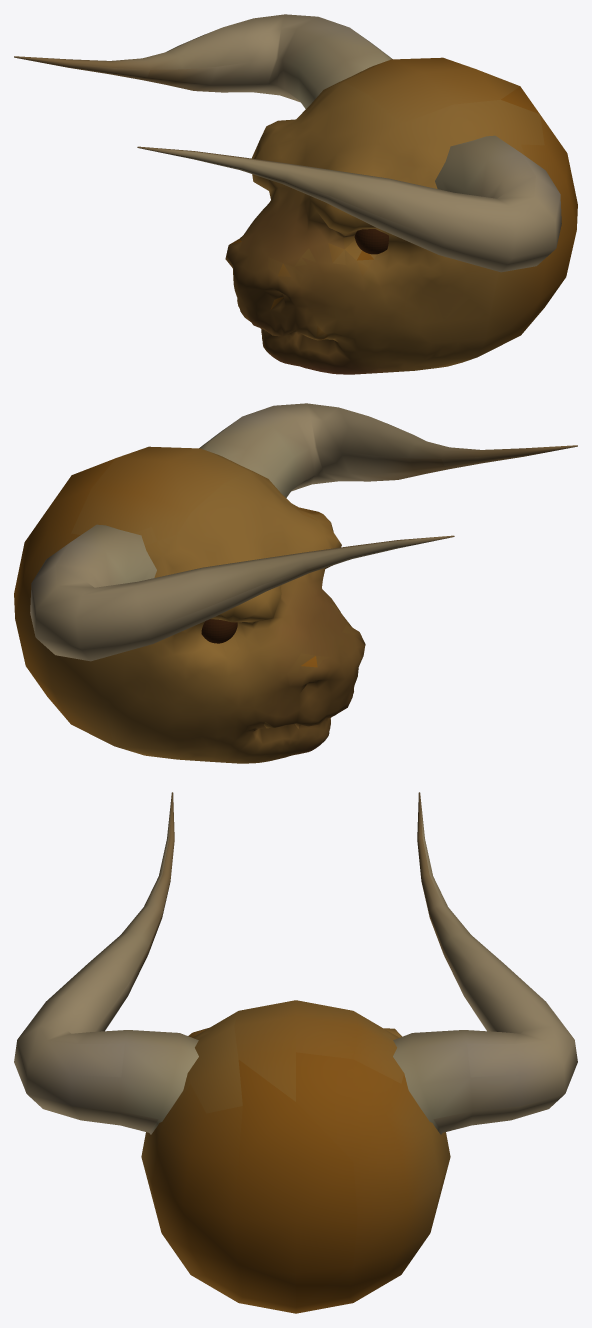
The model's file is minotaurhead.fbx.
3 views of the same model, one above another, from view 1: azimuth 30°, elevation 25°; view 2: azimuth 150°, elevation 25°; view 3: azimuth 270°, elevation 25° (orthographic).
Parts seen in each view (by area): view 1: head, horns, eyes; view 2: head, horns, eyes; view 3: head, horns.
Part boxes in pixels (x1=…): head: x1=225, y1=57, x2=577, y2=374; horns: x1=14, y1=14, x2=561, y2=272; eyes: x1=354, y1=229, x2=388, y2=254; head: x1=14, y1=446, x2=365, y2=763; horns: x1=30, y1=403, x2=577, y2=661; eyes: x1=201, y1=619, x2=237, y2=643; head: x1=141, y1=1000, x2=450, y2=1313; horns: x1=14, y1=792, x2=577, y2=1134.
Size of the model in its own units: 365 by 244 by 371.
